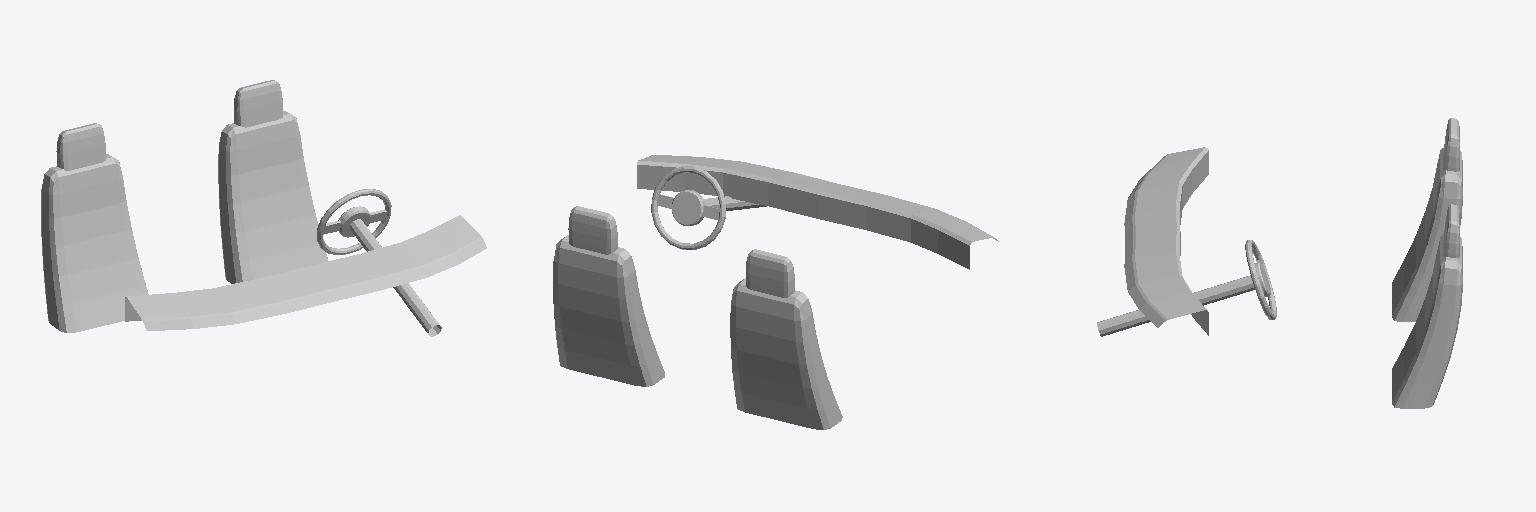
The model's file is micro_subaru_interior.obj.
3 renders of one model, left to right at view 1: azimuth 30°, elevation 25°; view 2: azimuth 150°, elevation 25°; view 3: azimuth 270°, elevation 25°, orthographic.
Bounding box in the file's own units: 3.22 × 1.58 × 3.